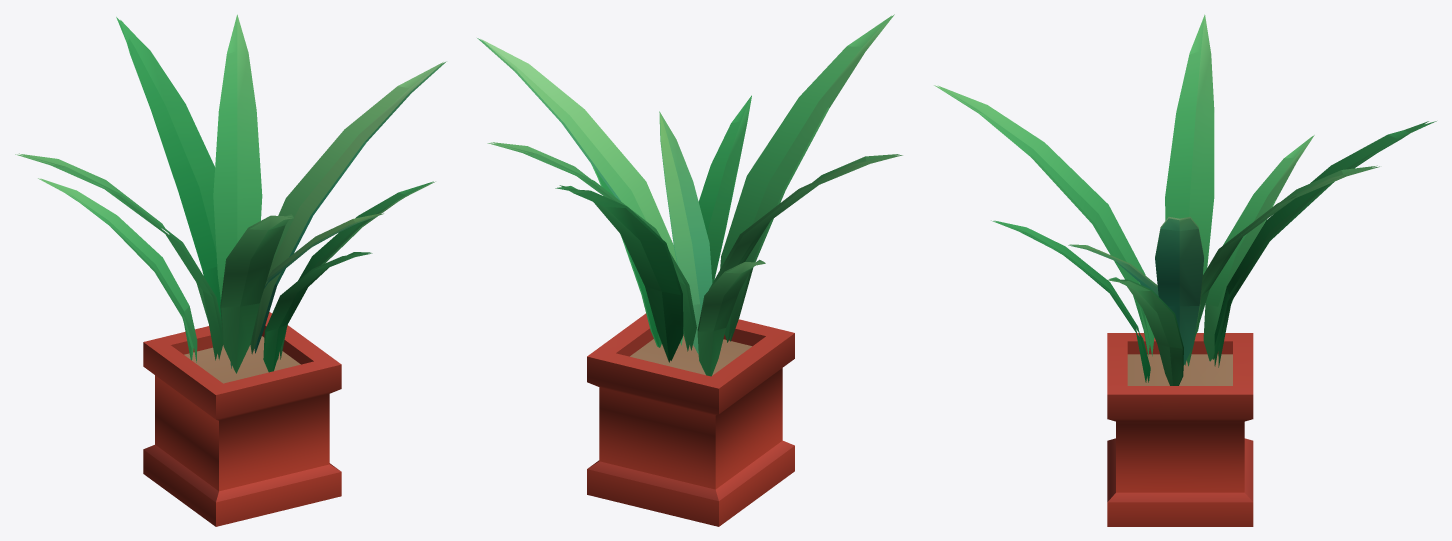
File: SK_Pot_001.FBX
3 views of the same model, side by side, from view 1: azimuth 30°, elevation 25°; view 2: azimuth 150°, elevation 25°; view 3: azimuth 270°, elevation 25° (orthographic). The views are drawn at different scales.
Visible parts, largest first — view 1: SK_Pot_001; view 2: SK_Pot_001; view 3: SK_Pot_001.
Boxes of the visible parts, box(x1,y1,x2,y2) form: SK_Pot_001: box(15, 14, 446, 526); SK_Pot_001: box(477, 14, 902, 526); SK_Pot_001: box(934, 14, 1436, 526).
Size of the model in its own units: 79.77 by 67.84 by 82.49.
Materials: 1 (1 with a texture image).
